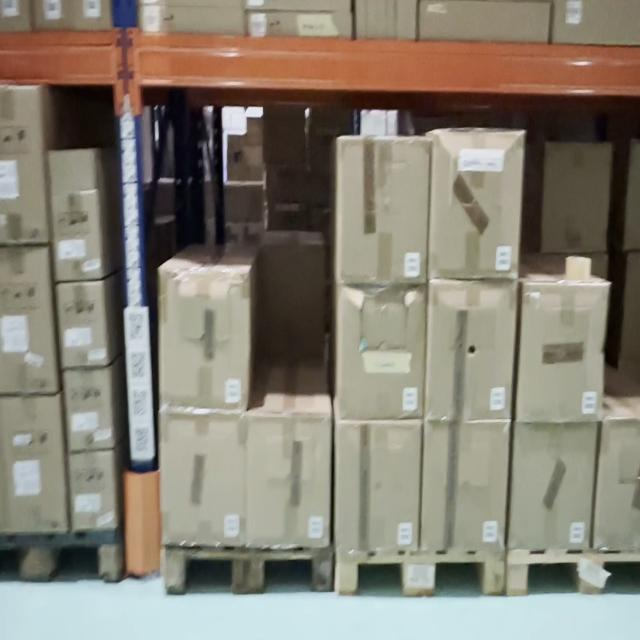box: (337, 136, 429, 288), (430, 132, 522, 280), (337, 292, 426, 424), (431, 284, 515, 419), (162, 278, 245, 412), (519, 288, 604, 412), (244, 415, 326, 543), (162, 418, 245, 543), (425, 423, 504, 541), (516, 426, 590, 546), (340, 428, 416, 543)
